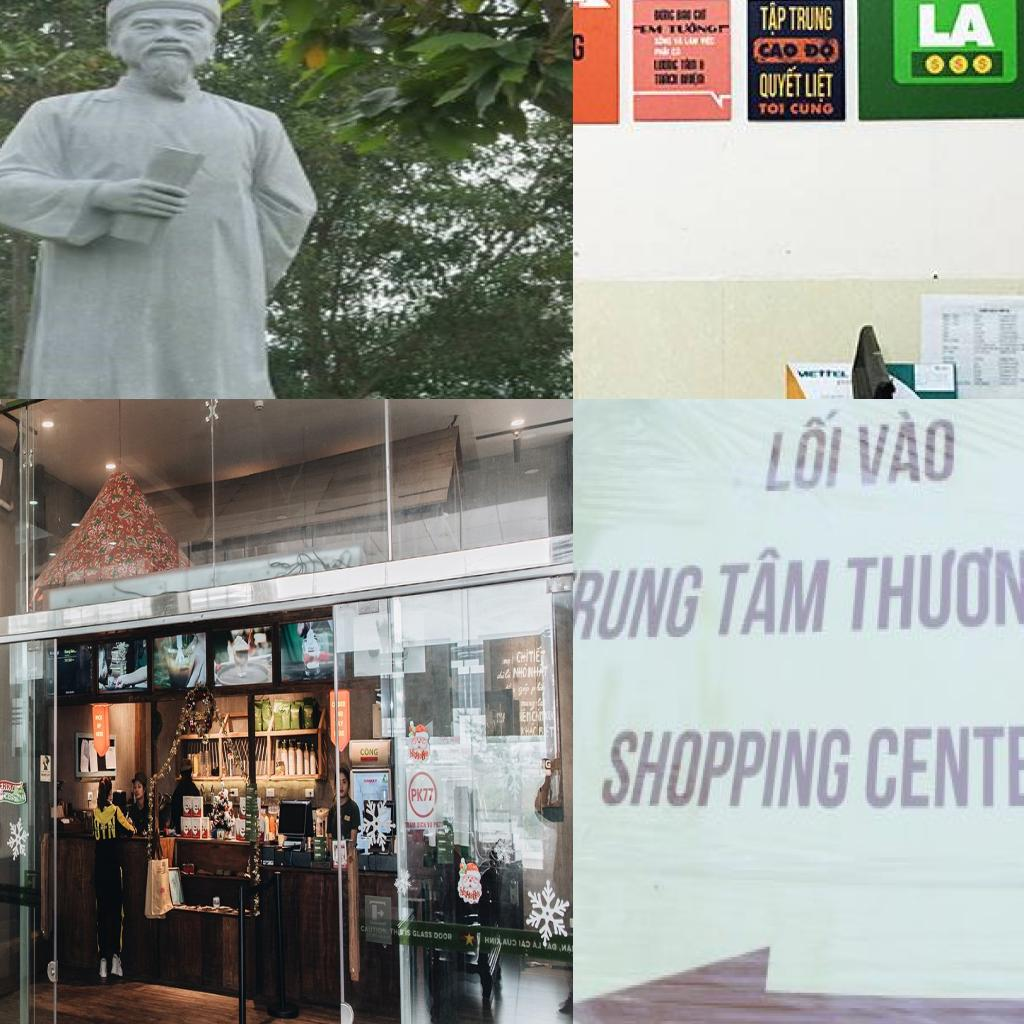text: (597, 721, 855, 811), (843, 542, 1024, 636), (710, 545, 834, 642), (573, 562, 706, 644), (853, 404, 959, 491), (760, 409, 846, 499), (917, 2, 1000, 50), (760, 66, 804, 100), (789, 6, 835, 34), (804, 68, 837, 104), (760, 1, 787, 39), (758, 42, 801, 59), (804, 40, 837, 62), (789, 102, 835, 115), (758, 102, 787, 115), (527, 756, 552, 771), (526, 662, 548, 678), (412, 788, 434, 802), (528, 645, 546, 662), (520, 722, 538, 739), (538, 722, 554, 741), (530, 680, 547, 697), (512, 663, 529, 679), (360, 925, 387, 935), (2, 792, 27, 802), (0, 780, 16, 795), (359, 746, 379, 758), (518, 682, 532, 698), (516, 648, 529, 664), (520, 699, 537, 711), (536, 696, 548, 713), (412, 930, 432, 940), (519, 708, 531, 724), (532, 707, 544, 723), (544, 704, 556, 720), (434, 931, 452, 940), (502, 656, 514, 668), (389, 928, 404, 936), (496, 670, 506, 680), (362, 779, 378, 785), (505, 668, 512, 681), (405, 822, 416, 830), (416, 822, 427, 830), (434, 822, 445, 830), (337, 700, 346, 708), (95, 714, 104, 721), (338, 729, 345, 738), (95, 731, 105, 737), (338, 719, 344, 728), (426, 821, 432, 830), (405, 928, 411, 937), (338, 710, 344, 718), (331, 701, 335, 709), (97, 723, 102, 729)
